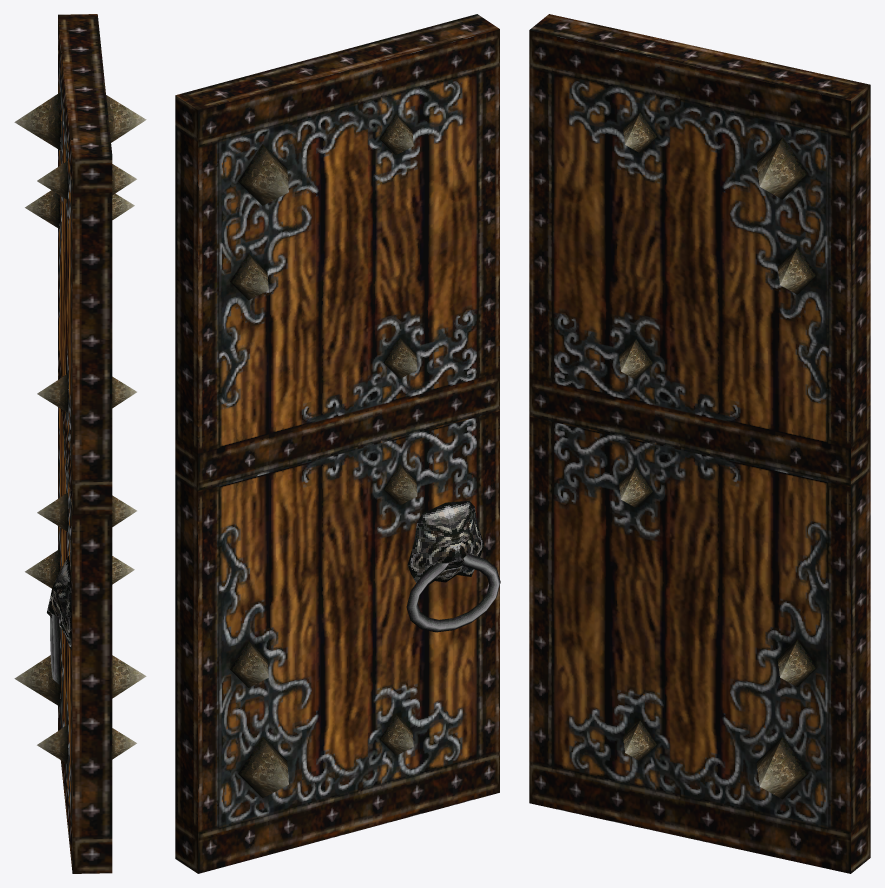
Rendered from ANIMATEDINSTANCES_TROLL_DOOR_02__AI.fbx.
The picture shows the model from 3 angles, left to right: view 1: azimuth 30°, elevation 25°; view 2: azimuth 150°, elevation 25°; view 3: azimuth 270°, elevation 25°; orthographic projection. The views are drawn at different scales.
Visible parts, largest first — view 1: ANIMATEDINSTANCES_TROLL_DOOR_02__AI; view 2: ANIMATEDINSTANCES_TROLL_DOOR_02__AI; view 3: ANIMATEDINSTANCES_TROLL_DOOR_02__AI.
Part boxes in pixels (box(x1,y1,x2,y2)): ANIMATEDINSTANCES_TROLL_DOOR_02__AI: box(14, 14, 146, 873); ANIMATEDINSTANCES_TROLL_DOOR_02__AI: box(175, 14, 500, 873); ANIMATEDINSTANCES_TROLL_DOOR_02__AI: box(529, 14, 870, 873).
Size of the model in its own units: 10746 by 40800 by 16331.
Materials: 4 (4 with a texture image).
